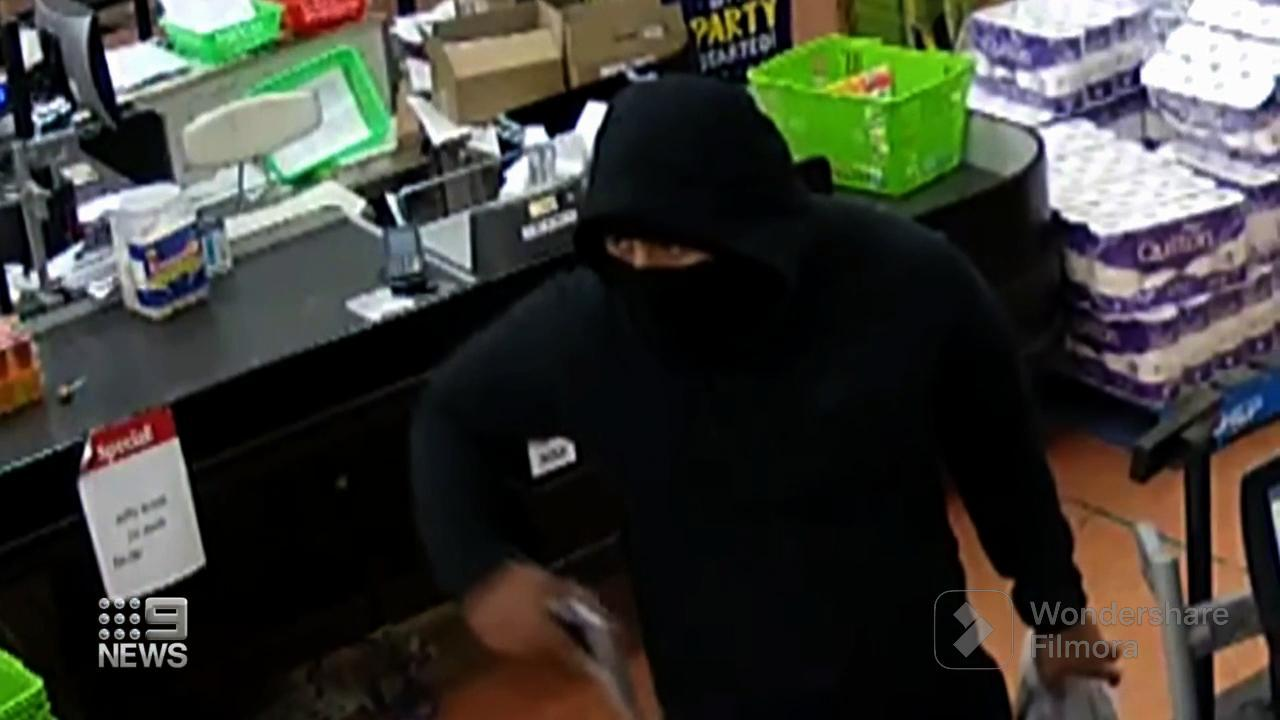gun: (532, 568, 663, 720)
